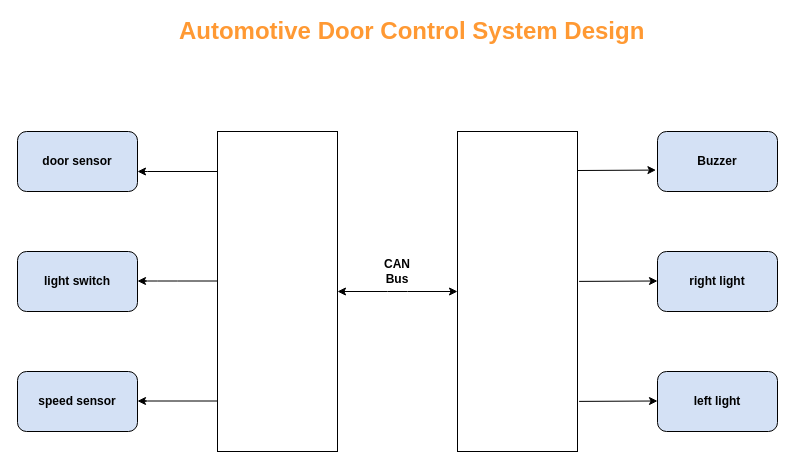
Some shapes in this 795 by 469 pixel diagram are drawn without their labels. The centre of each missing label's shape, as x and y in pixels:
ECU1: [277,291]
ECU2: [517,291]
